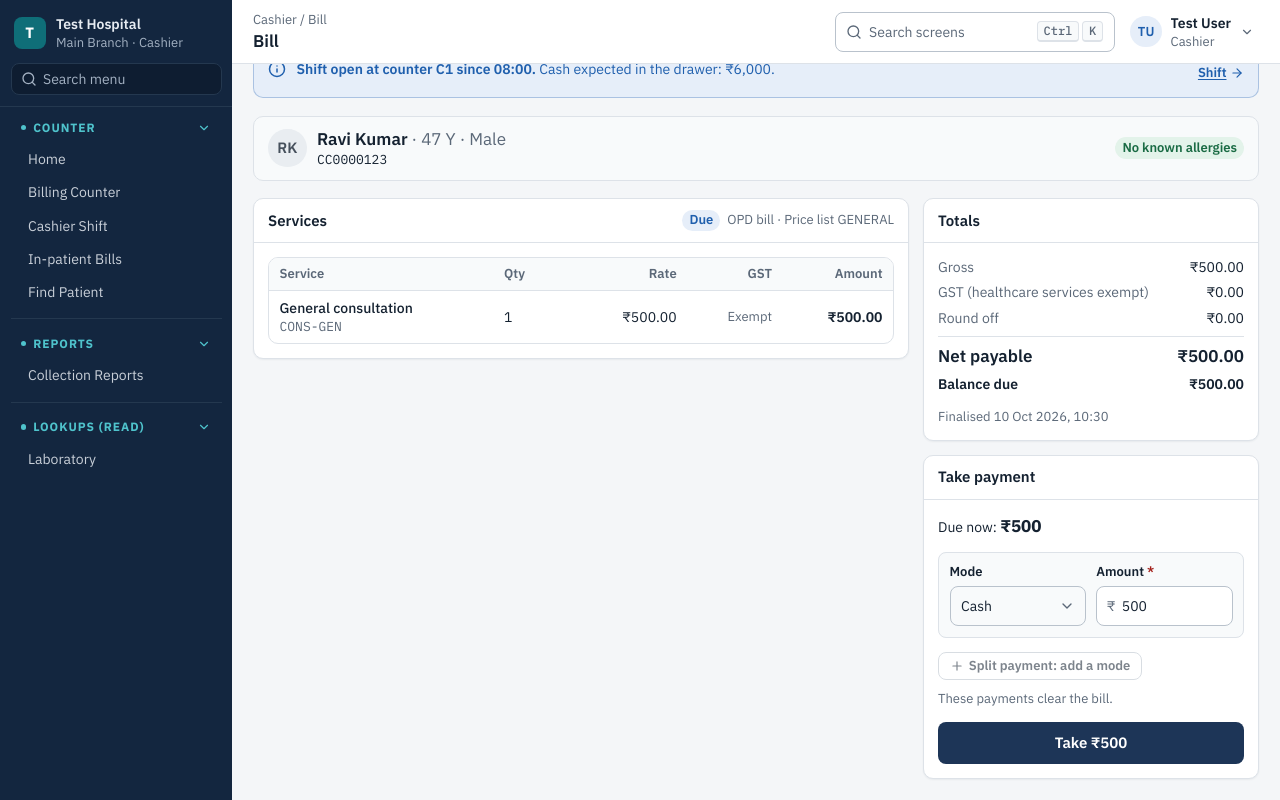
Test case: Bill › reuses the Idempotency-Key on a retry and shows the section 269ST cash limit
(page scrolled)
Click the button "Take ₹500": (1091,743) [938,722,1244,764]
(page scrolled)
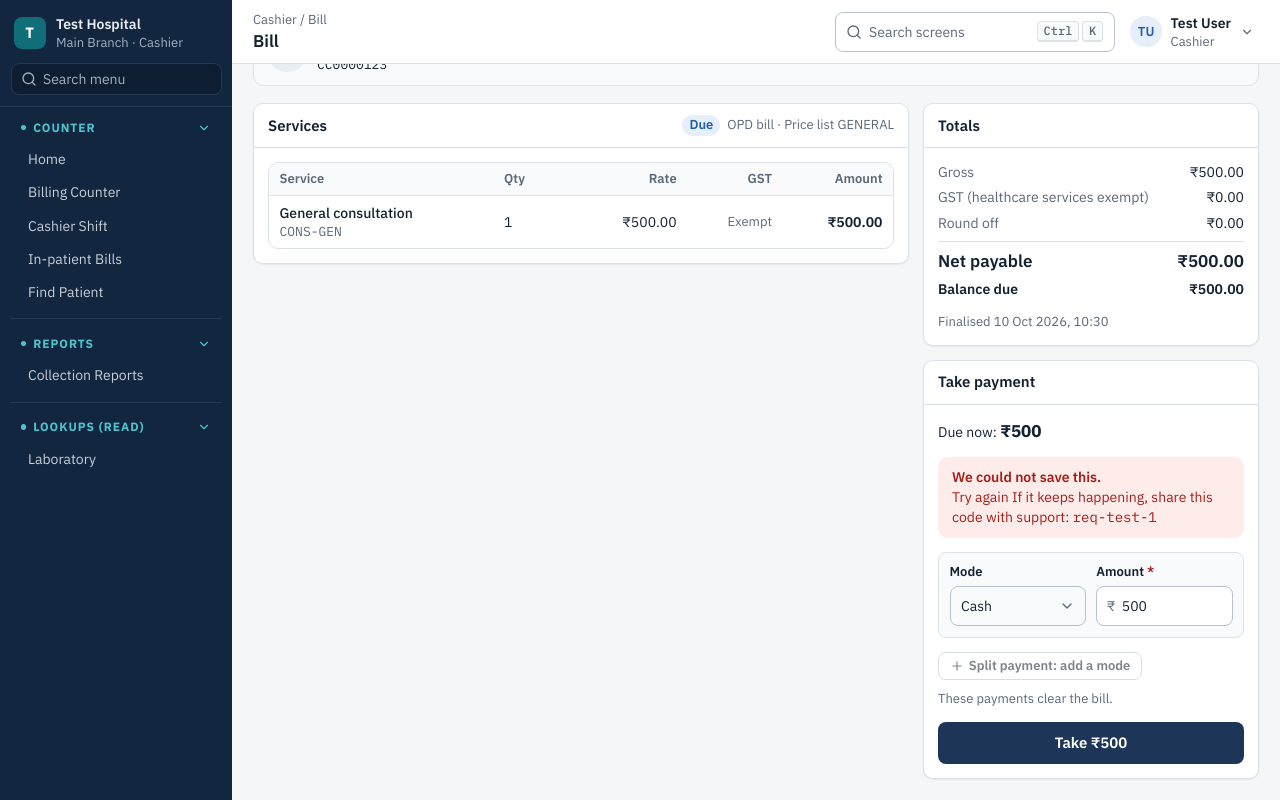
Expected: the message shows "Try again", [952,488,1009,506]
Click the button "Take ₹500": (1091,743) [938,722,1244,764]
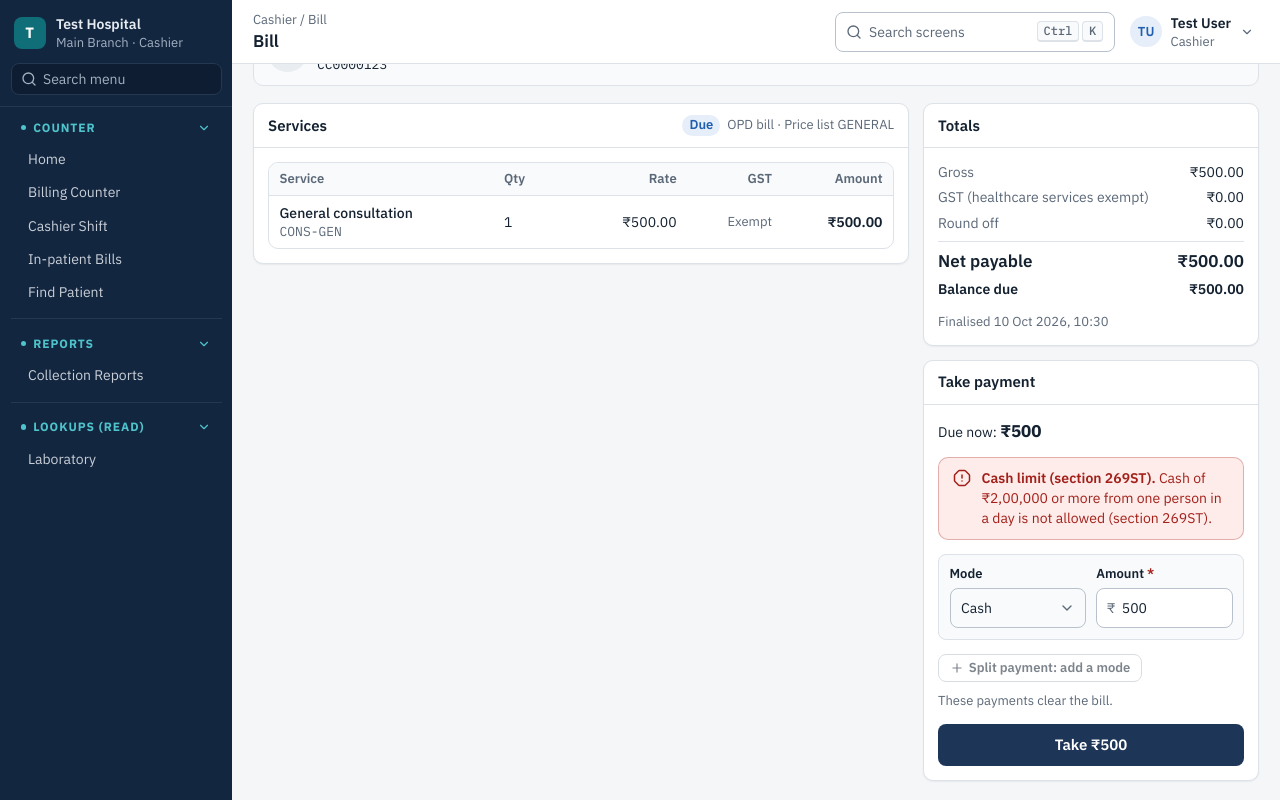
Expected: the text "Cash limit (section 269ST)." is shown, [982,469,1159,487]
Expected: the message shows "Cash limit (section 269ST).", [982,469,1156,487]
Expected: the message shows "section 269ST", [982,469,1156,487]
